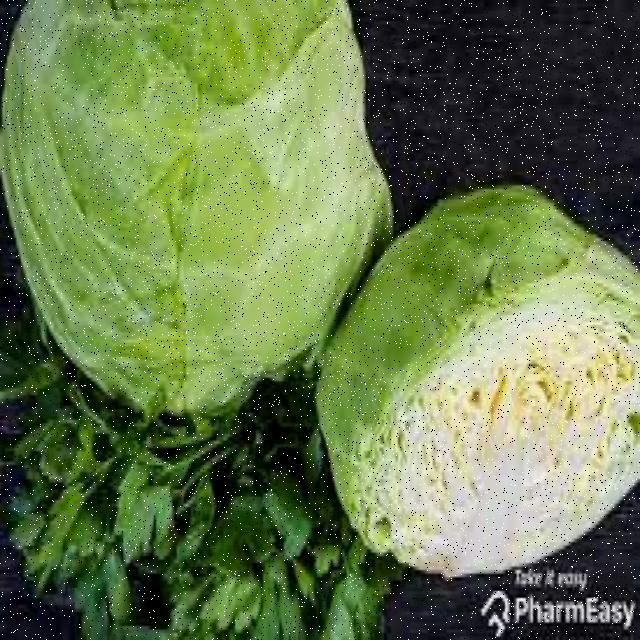Cabbage: (16, 2, 390, 372), (360, 130, 640, 550)
